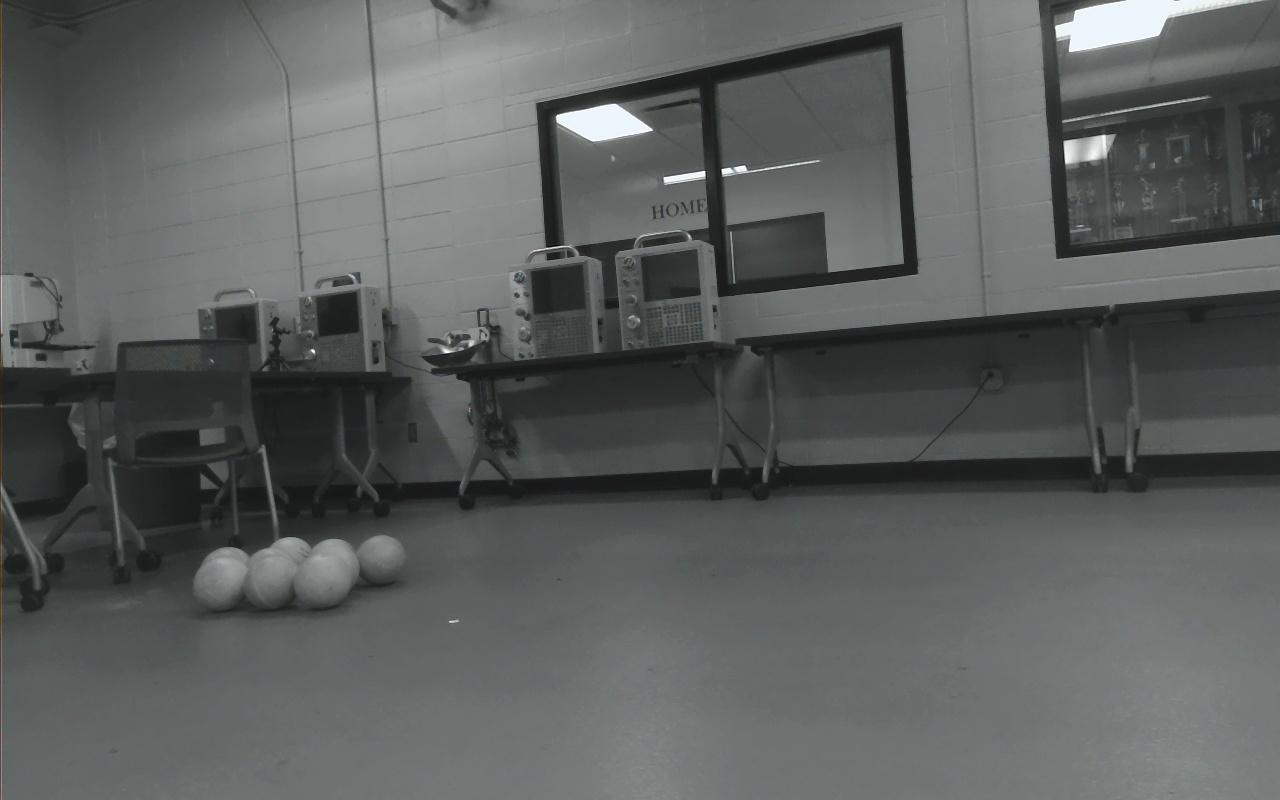Fuel: (292, 553, 353, 609), (242, 555, 297, 610), (192, 557, 247, 612), (355, 533, 408, 586), (198, 546, 252, 596), (247, 546, 301, 590), (307, 539, 359, 584), (311, 545, 359, 593), (266, 537, 314, 580)
